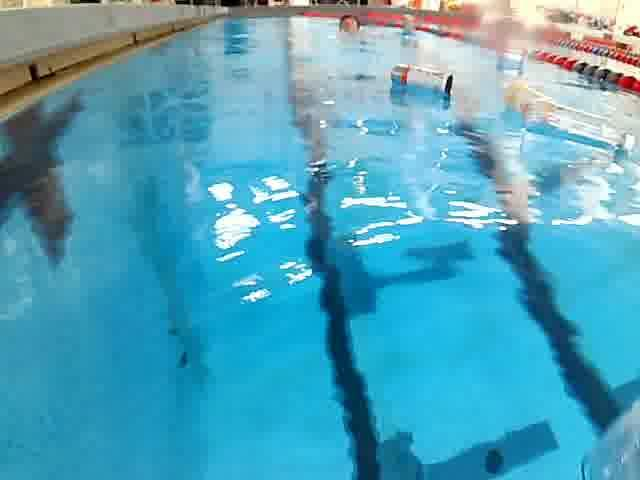Bottle: (514, 90, 637, 169)
Can: (377, 51, 459, 111), (492, 38, 531, 78)
